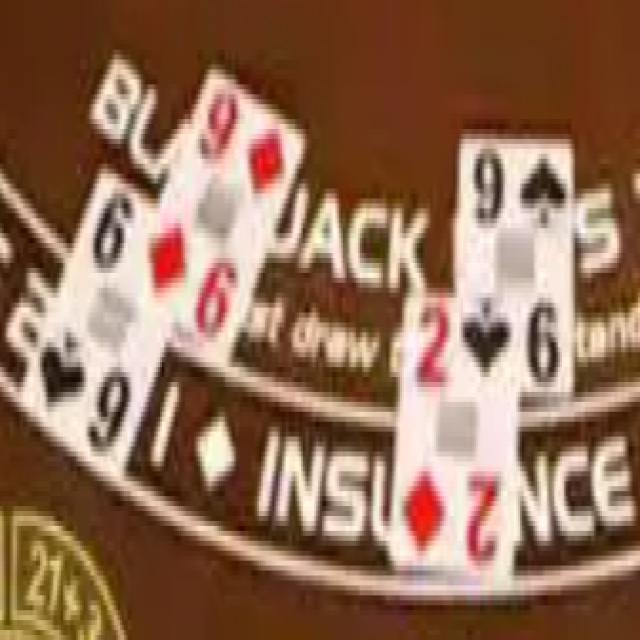Card-2: (392, 296, 517, 572)
Card-6: (20, 165, 166, 484)
Card-9: (128, 61, 307, 366), (460, 136, 573, 396)
